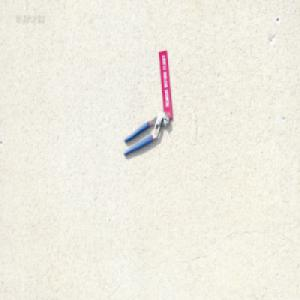Label: (157, 49, 173, 119)
Pliers: (123, 110, 169, 156)
